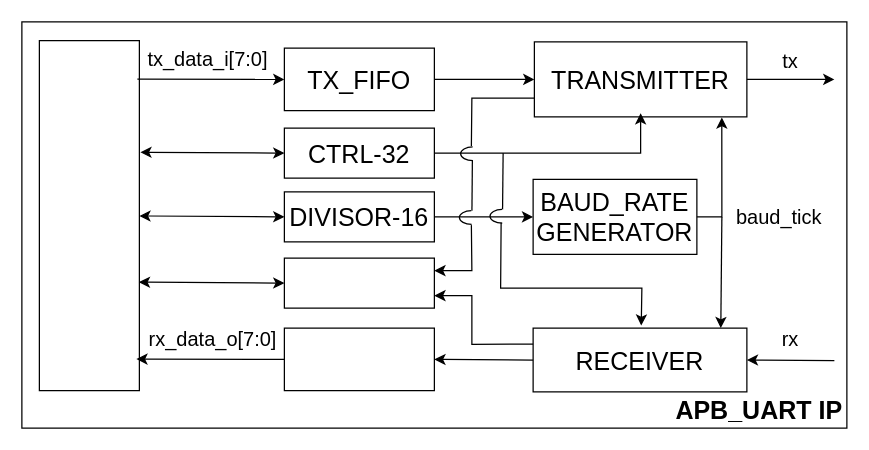
This 869x450 diagram has some shape labels left out. The box of each missing label's shape, as (x1, y1, x2, y2) in pixels:
APB SLAVE: (38, 39, 139, 391)
RX_FIFO: (283, 327, 434, 391)
STATUS-32: (283, 257, 434, 308)
